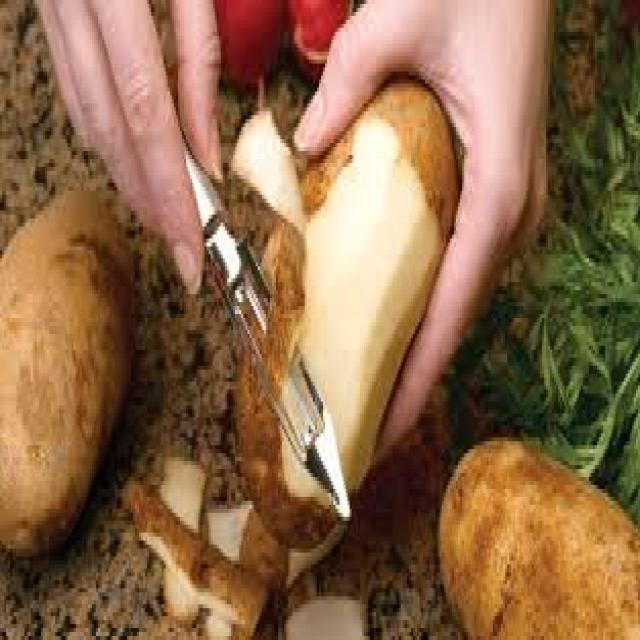Organik: (228, 76, 460, 536), (0, 171, 143, 559), (444, 430, 640, 640), (136, 455, 270, 640), (284, 589, 368, 640)
